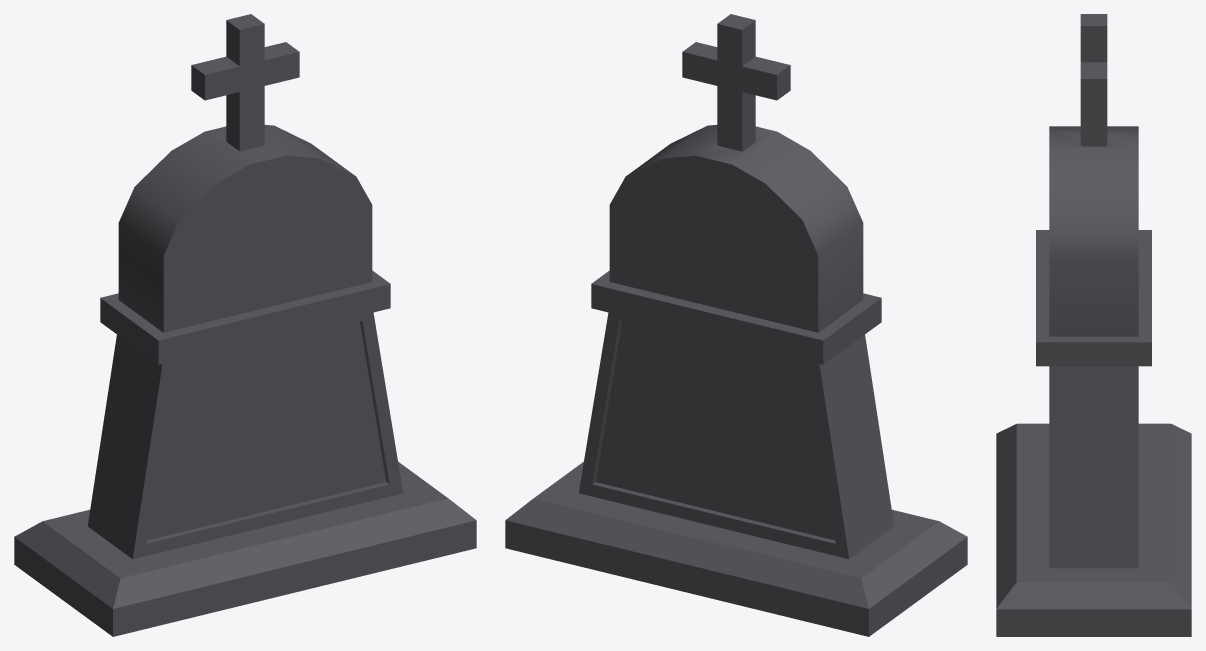
Rendered from Tombstone_3.fbx.
The picture shows the model from 3 angles, left to right: view 1: azimuth 30°, elevation 25°; view 2: azimuth 150°, elevation 25°; view 3: azimuth 270°, elevation 25°; orthographic projection.
Visible parts, largest first — view 1: Tombstone3; view 2: Tombstone3; view 3: Tombstone3.
Boxes of the visible parts, x1,y1,x2,y2 form: Tombstone3: (14,14,476,636); Tombstone3: (505,14,967,636); Tombstone3: (996,14,1191,636).
Bounding box in the file's own units: 1.56 × 2.2 × 0.7354.
